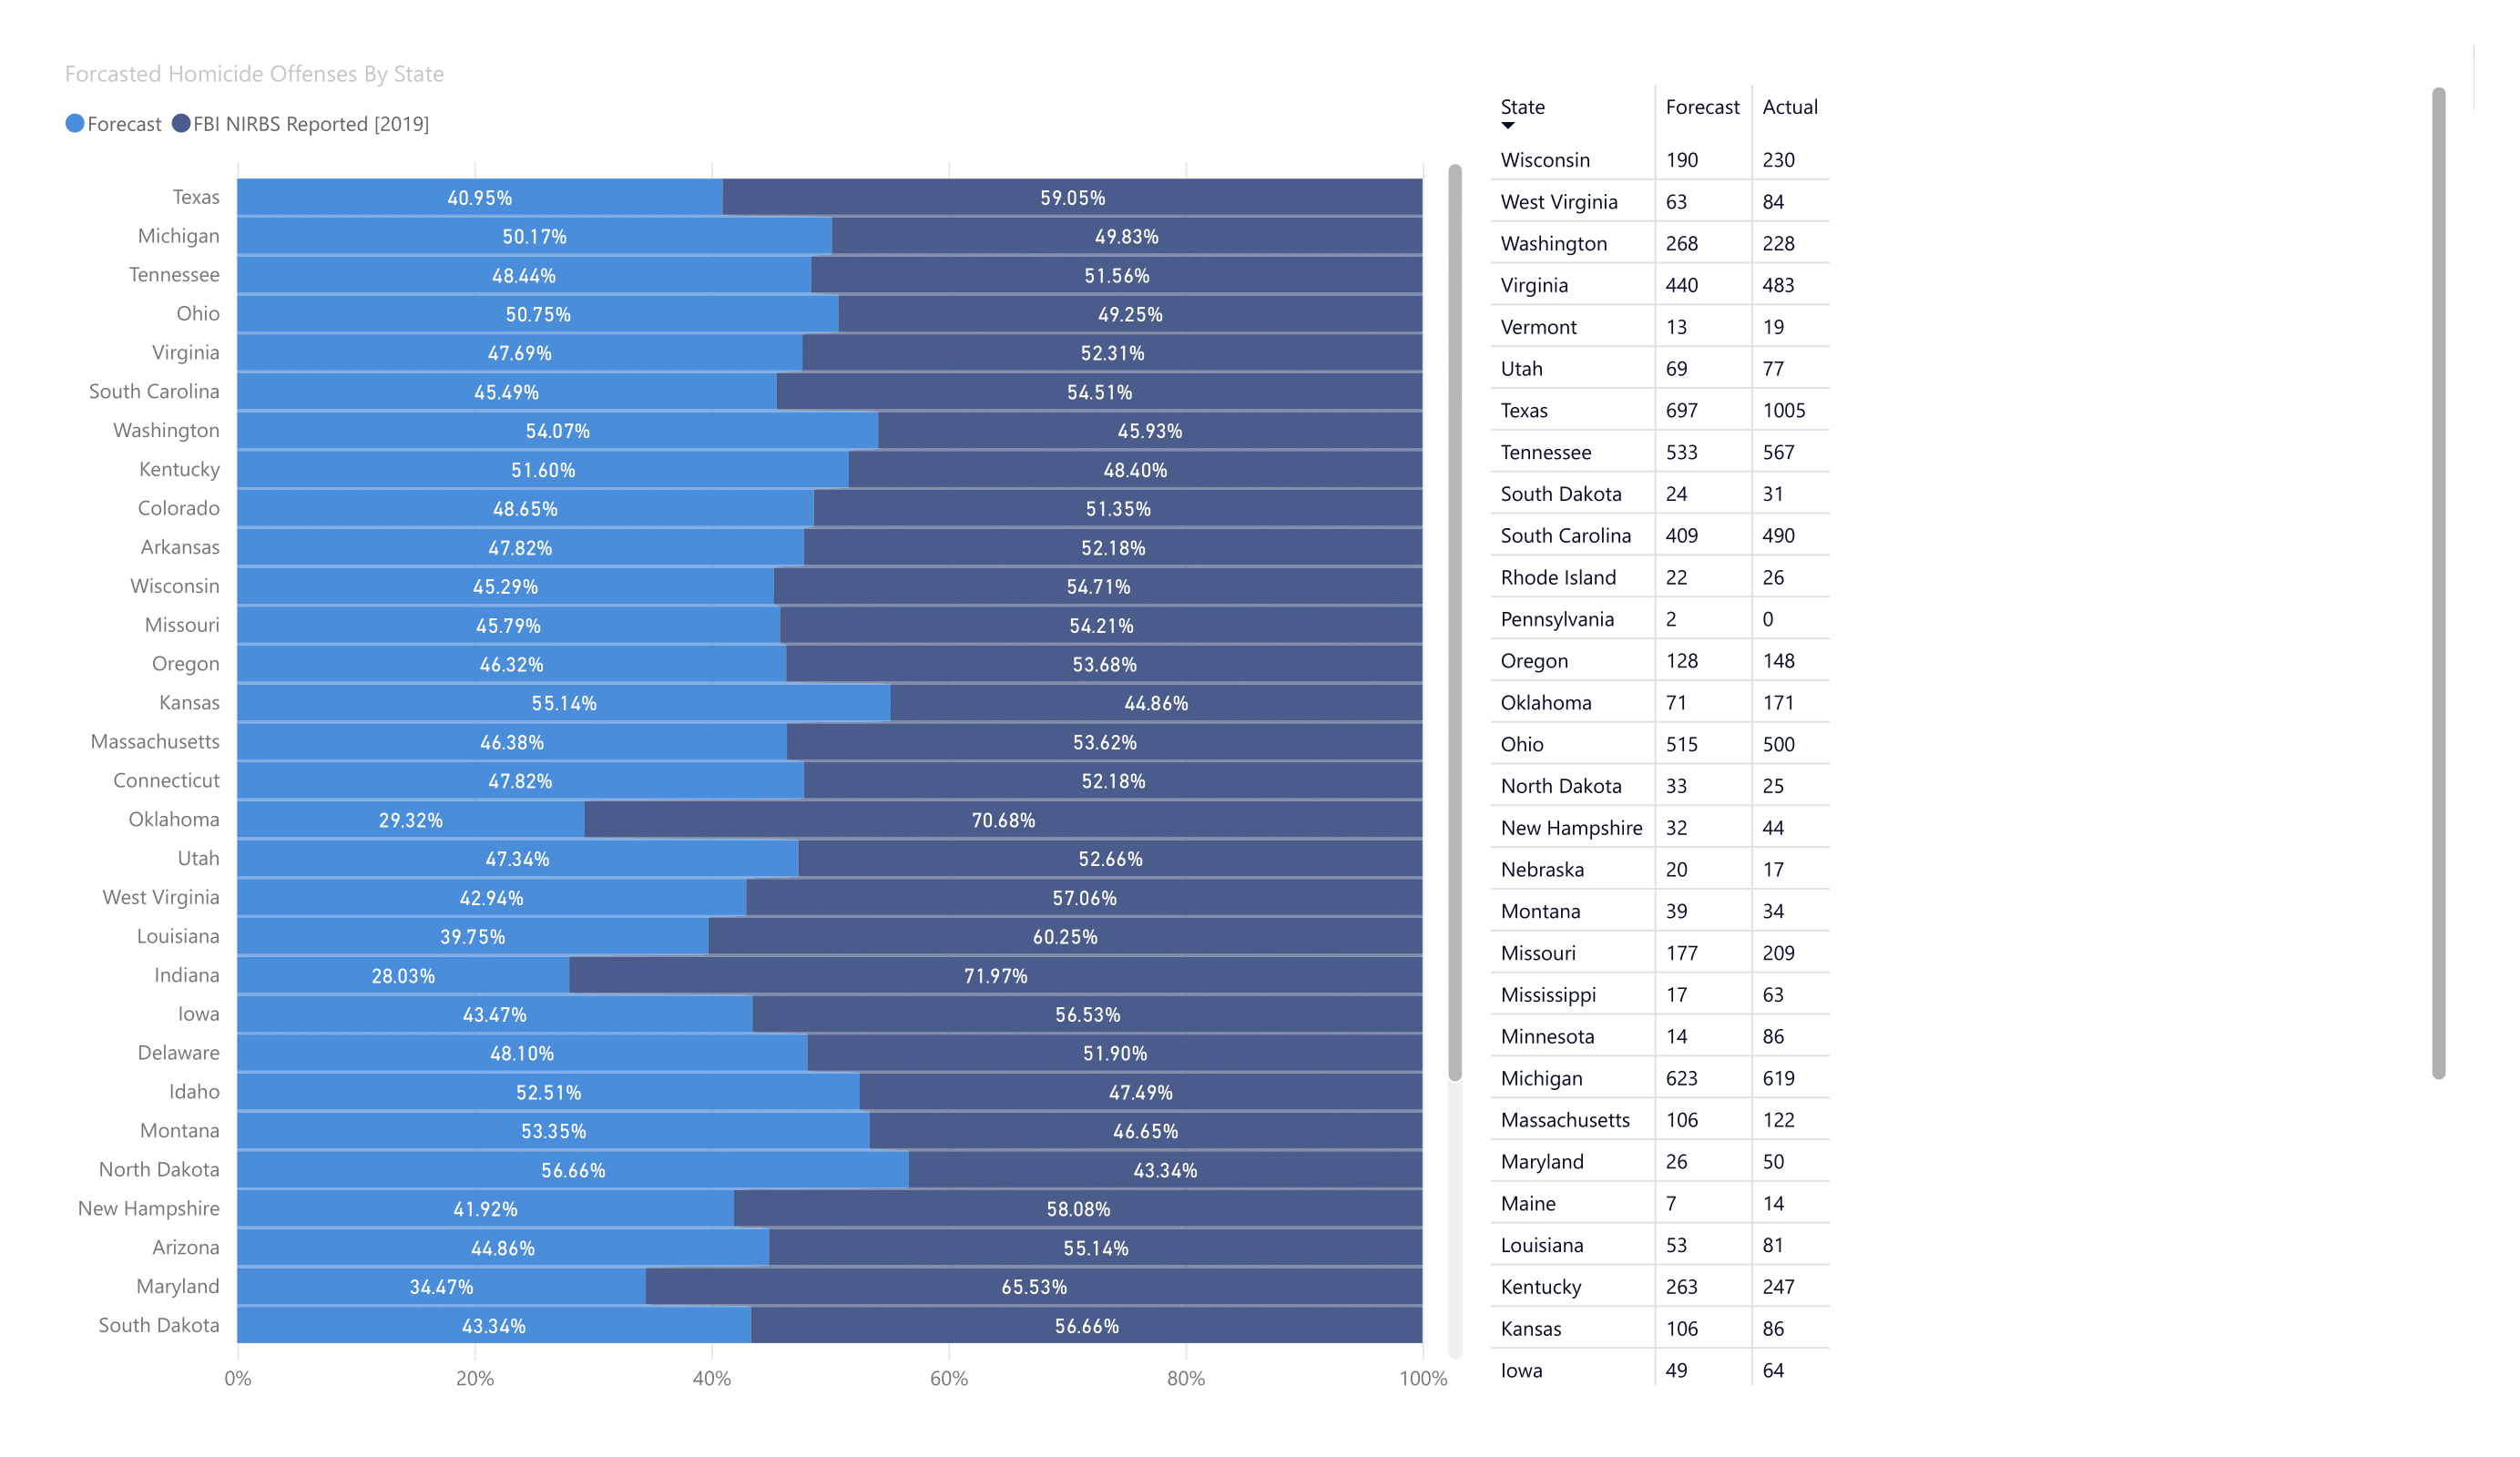

The dashboard page shown, as its layout file describes it:
{"tool":"powerbi","page":{"name":"Forecast | Total","canvas":[1280,720],"ordinal":1},"visuals":[{"type":"hundredPercentStackedBarChart","title":"Forcasted Homicide Offenses By State","fields":{"Category":["2019_predictiveAnalysis_LagPanel_Total.State"],"Y":["Sum(2019_predictiveAnalysis_LagPanel_Total.Predicted_Total_Offenses_2019)","Sum(2019_cleaned.Total Offenses)"]},"box":[0,0,746.7,719.8],"z":0},{"type":"tableEx","fields":{"Values":["2019_predictiveAnalysis_LagPanel_Total.State","2019_predictiveAnalysis_LagPanel_Total.Predicted_Total_Offenses_2019","2019_cleaned.Total Offenses"]},"box":[746.7,6.9,533.3,712.9],"z":1000}]}

Visuals, with their boxes in screenshot pixels (x1, y1, x2, y2):
"Forcasted Homicide Offenses By State" hundredPercentStackedBarChart: crop(46, 46, 1463, 1411)
tableEx - 2019_predictiveAnalysis_LagPanel_Total.State x 2019_predictiveAnalysis_LagPanel_Total.Predicted_Total_Offenses_2019: crop(1463, 58, 2474, 1411)
